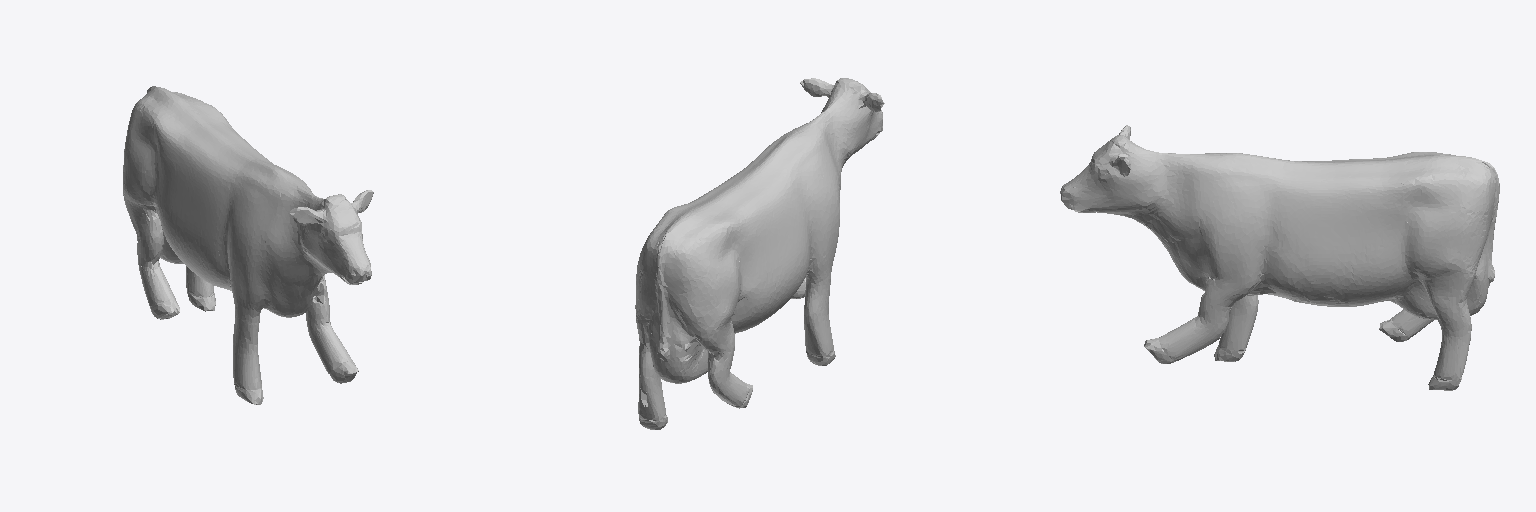
The model's file is step7.obj.
3 renders of one model, left to right at view 1: azimuth 30°, elevation 25°; view 2: azimuth 150°, elevation 25°; view 3: azimuth 270°, elevation 25°, orthographic.
Parts seen in each view (by area): view 1: Cow:cow; view 2: Cow:cow; view 3: Cow:cow.
Part boxes in pixels (left/top/right/bottom): Cow:cow: left=123, top=86, right=373, bottom=404; Cow:cow: left=635, top=78, right=884, bottom=429; Cow:cow: left=1060, top=125, right=1499, bottom=390.
Bounding box in the file's own units: 0.4604 × 1.17 × 1.96.